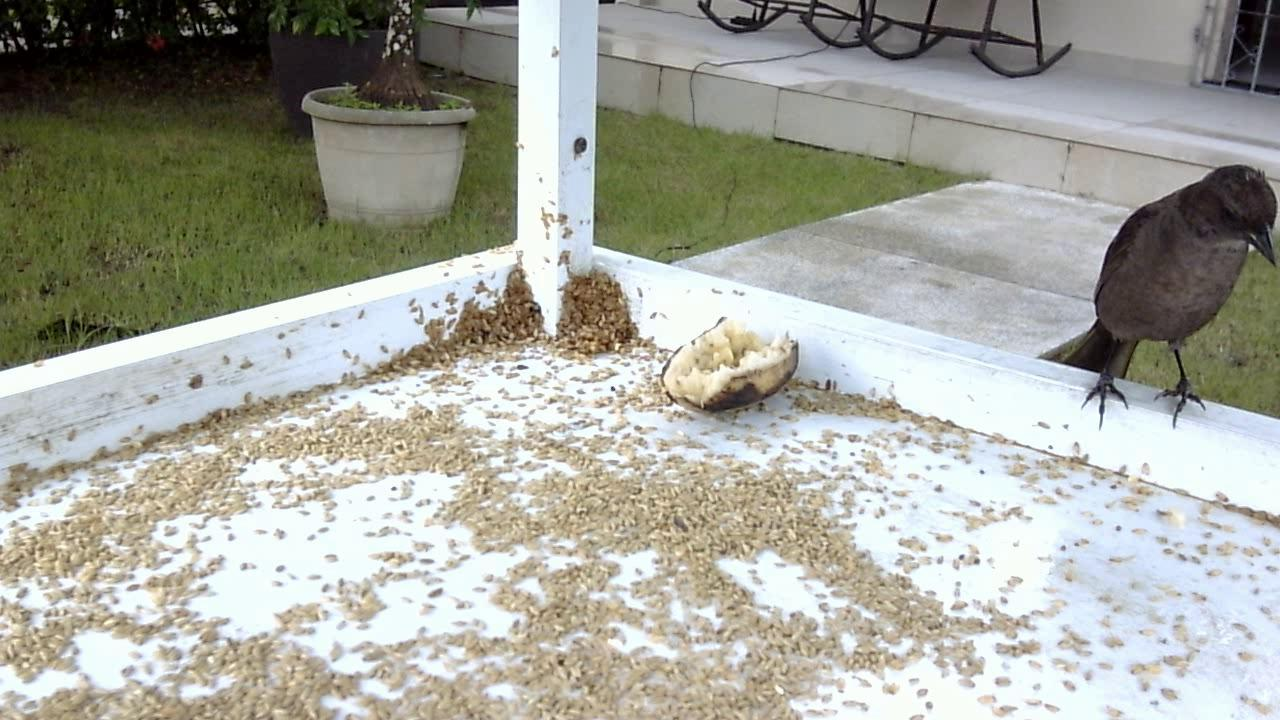chupim: (1035, 157, 1278, 444)
